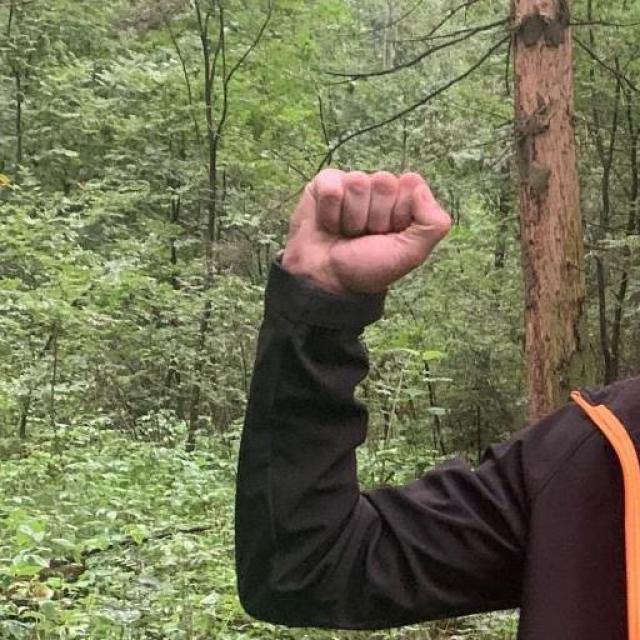hand: (280, 166, 452, 298)
